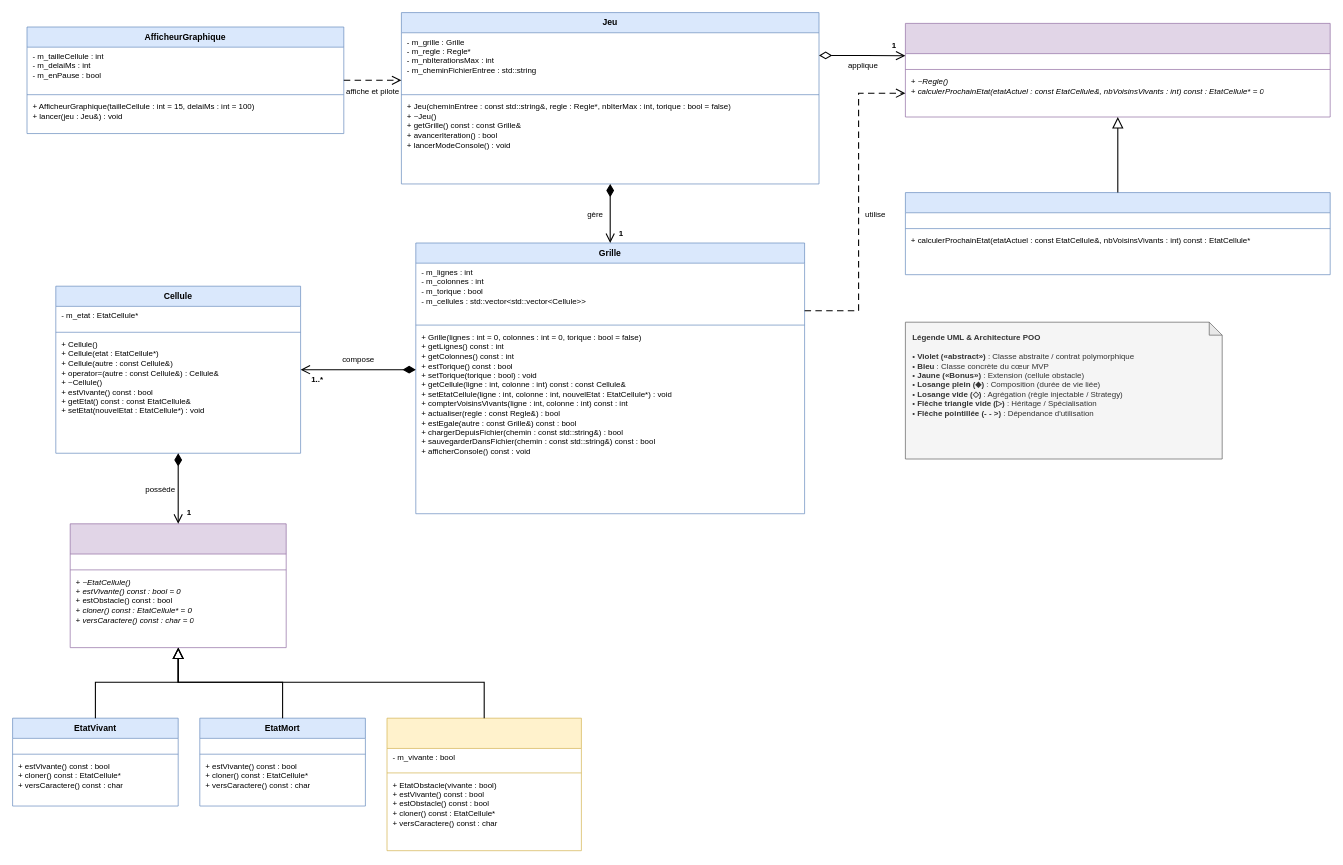
Some shapes in this 1343 by 865 pixel diagram are drawn without their labels. Here are the shapes that lost their labels. From the top down, the box of each, then its label:
(905, 23, 1330, 117): «abstract» Regle
(905, 192, 1330, 275): RegleConway
(69, 523, 286, 648): «abstract» EtatCellule
(386, 717, 581, 851): «Bonus» EtatObstacle
